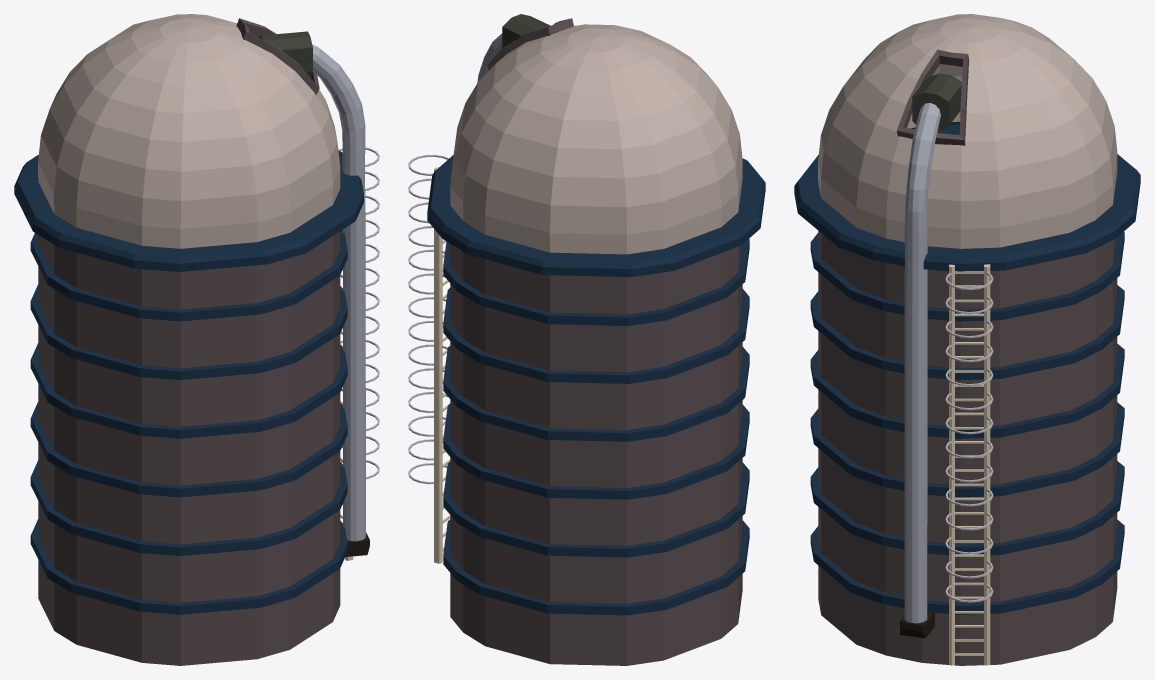
File: silo.fbx
The picture shows the model from 3 angles, left to right: view 1: azimuth 30°, elevation 25°; view 2: azimuth 150°, elevation 25°; view 3: azimuth 270°, elevation 25°; orthographic projection.
Visible parts, largest first — view 1: silo; view 2: silo; view 3: silo.
Part boxes in pixels (x1,y1,x2,y2): silo: (14, 14, 379, 665); silo: (408, 14, 765, 665); silo: (794, 14, 1140, 665).
Bounding box in the file's own units: 1638 × 2652 × 1449.
